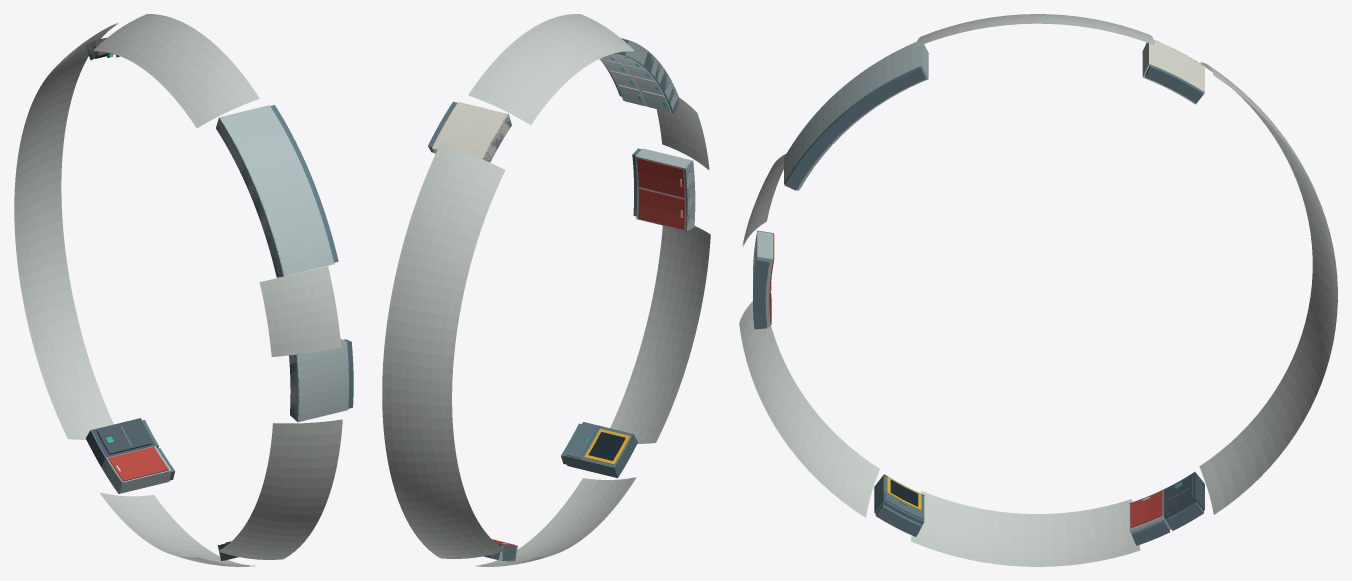
File: proposal_L1_wallfit.glb
3 renders of one model, left to right at view 1: azimuth 30°, elevation 25°; view 2: azimuth 150°, elevation 25°; view 3: azimuth 270°, elevation 25°, orthographic. The views are drawn at different scales.
Visible parts, largest first — view 1: proposal:u7_wall_lining, proposal:u1_spares_tools, proposal:u6_emergency_right, proposal:u4_emergency_left, proposal:u3_courier_strongbox; view 2: proposal:u7_wall_lining, proposal:u6_emergency_right, proposal:u1_spares_tools, proposal:u2_watch_galley, proposal:u5_backup_panel; view 3: proposal:u7_wall_lining, proposal:u1_spares_tools, proposal:u2_watch_galley, proposal:u5_backup_panel, proposal:u6_emergency_right, proposal:u3_courier_strongbox, proposal:u4_emergency_left.
Part boxes in pixels (box(x1,y1,x2,y2)): proposal:u7_wall_lining: box(14, 14, 342, 566); proposal:u1_spares_tools: box(216, 105, 338, 277); proposal:u6_emergency_right: box(289, 339, 353, 422); proposal:u4_emergency_left: box(101, 446, 174, 493); proposal:u3_courier_strongbox: box(85, 418, 158, 467); proposal:u7_wall_lining: box(382, 14, 710, 566); proposal:u6_emergency_right: box(632, 148, 695, 231); proposal:u1_spares_tools: box(599, 38, 680, 113); proposal:u2_watch_galley: box(428, 101, 511, 162); proposal:u5_backup_panel: box(561, 422, 637, 478); proposal:u7_wall_lining: box(739, 14, 1337, 566); proposal:u1_spares_tools: box(784, 42, 928, 190); proposal:u2_watch_galley: box(1142, 40, 1204, 104); proposal:u5_backup_panel: box(874, 474, 924, 536); proposal:u6_emergency_right: box(753, 230, 774, 329); proposal:u3_courier_strongbox: box(1163, 472, 1204, 530); proposal:u4_emergency_left: box(1129, 490, 1171, 545).
Size of the model in its own units: 1.3 by 8.43 by 8.41.
